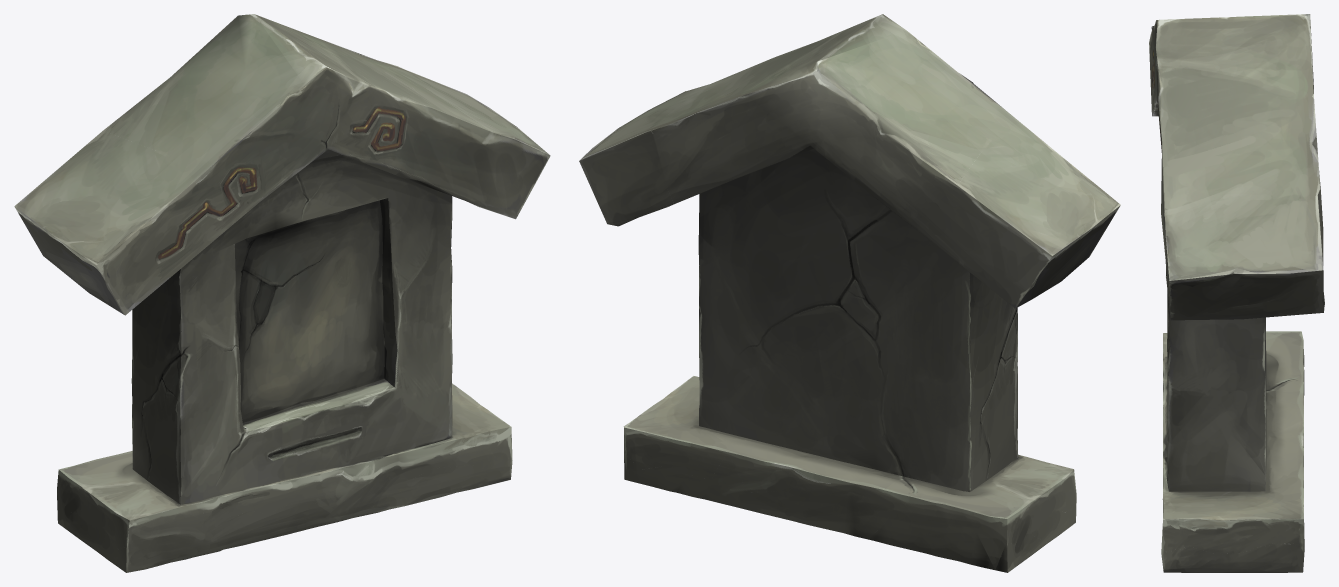
Rendered from gravestone_-_procreate_handpainting_test.glb.
3 views of the same model, side by side, from view 1: azimuth 30°, elevation 25°; view 2: azimuth 150°, elevation 25°; view 3: azimuth 270°, elevation 25° (orthographic).
Parts seen in each view (by area): view 1: Object_4, Object_3, Object_2; view 2: Object_4, Object_3, Object_2; view 3: Object_3, Object_2, Object_4.
Part boxes in pixels (x1,y1,x2,y2): Object_4: (131,149,452,504); Object_3: (14,14,550,315); Object_2: (57,383,512,572); Object_4: (698,148,1018,491); Object_3: (579,14,1120,308); Object_2: (623,376,1076,572); Object_3: (1149,14,1324,320); Object_2: (1161,331,1304,572); Object_4: (1167,290,1266,491).
Bounding box in the file's own units: 1.22 × 1.15 × 0.3946.
3 materials, 3 textured.
